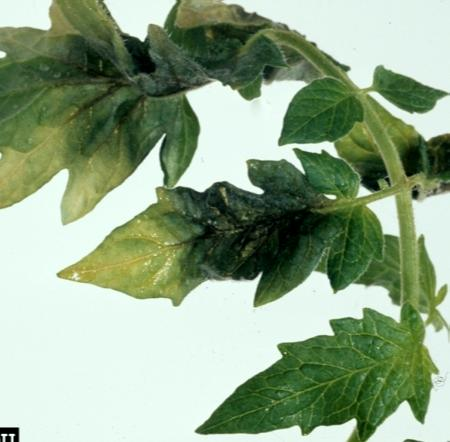Tomato leaf late blight: (52, 155, 380, 315), (181, 292, 450, 440), (0, 27, 200, 221)
